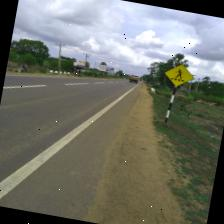yellowboard: (162, 61, 196, 89)
